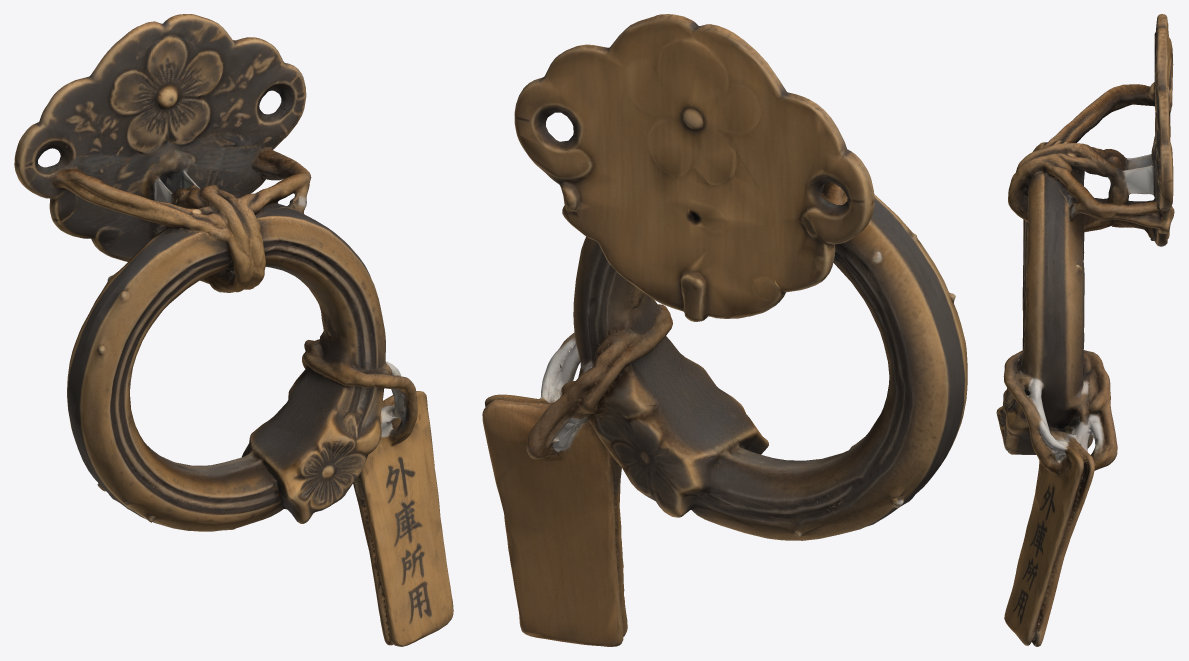
The model's file is Meshy_AI_Floral_Antique_Ring_P_0822062222_texture.fbx.
3 views of the same model, side by side, from view 1: azimuth 30°, elevation 25°; view 2: azimuth 150°, elevation 25°; view 3: azimuth 270°, elevation 25° (orthographic). The views are drawn at different scales.
Parts seen in each view (by area): view 1: output_unwrapped; view 2: output_unwrapped; view 3: output_unwrapped.
Boxes of the visible parts, x1,y1,x2,y2 form: output_unwrapped: (14,14,453,646); output_unwrapped: (482,14,967,646); output_unwrapped: (996,14,1174,646).
Bounding box in the file's own units: 128 × 200 × 60.23.
Materials: 1 (1 with a texture image).
